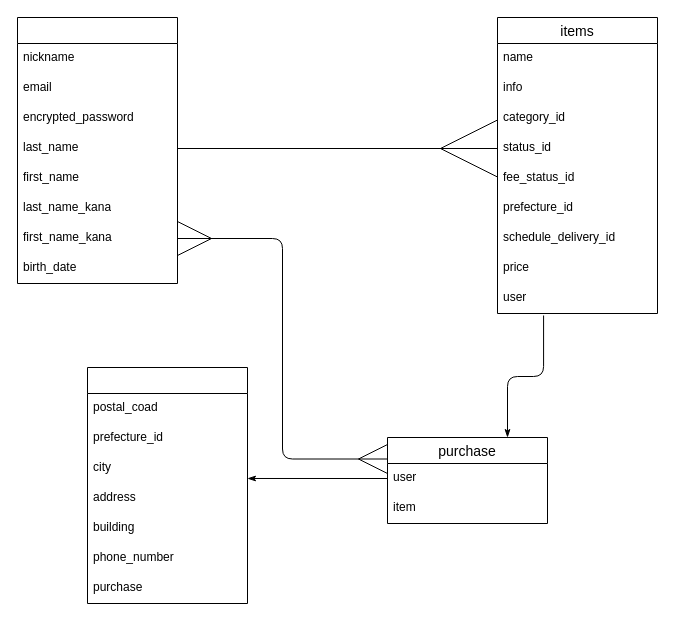
The diagram is 675 pixels wide and 624 high, and some of its shapes have lost their labels. Here are the shapes that lost their labels. From the top down, the box of each, then its label:
(16, 16, 178, 284): users
(86, 366, 248, 604): shippings
